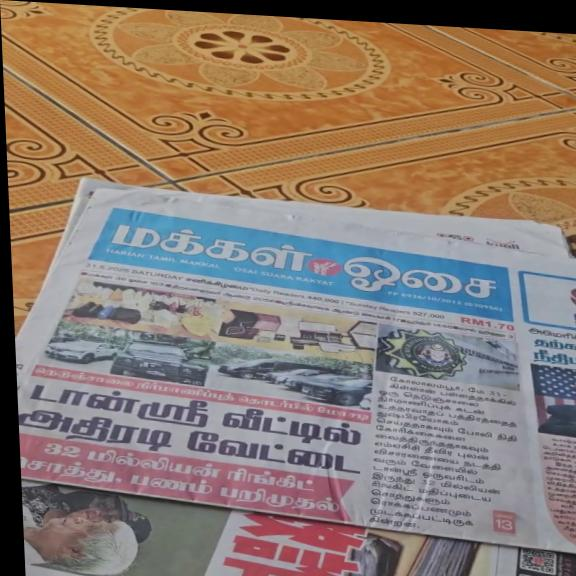Kertas: (85, 190, 576, 548)
